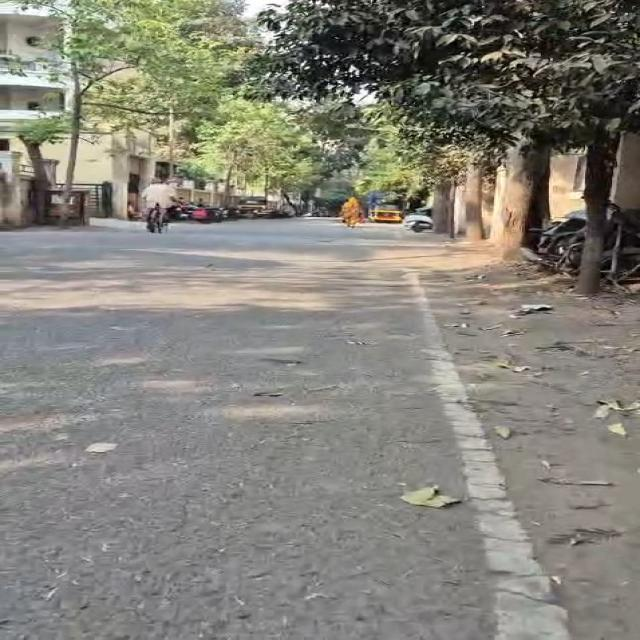bike: (402, 208, 432, 232), (148, 204, 168, 233), (168, 107, 175, 177)
